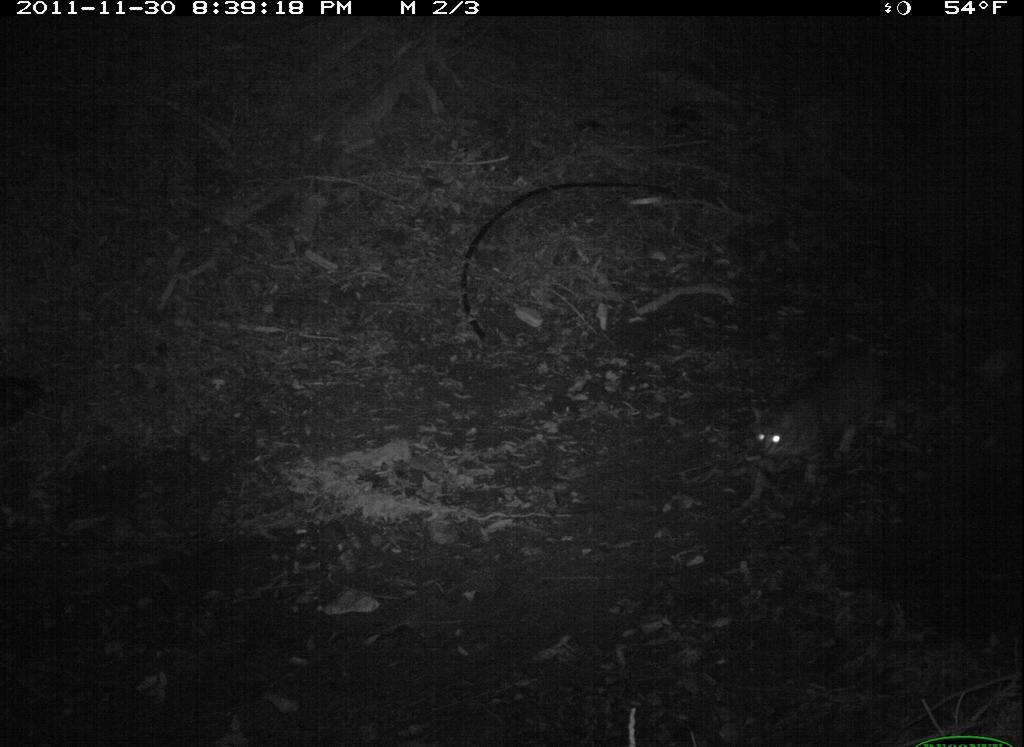cat: (735, 336, 908, 516)
